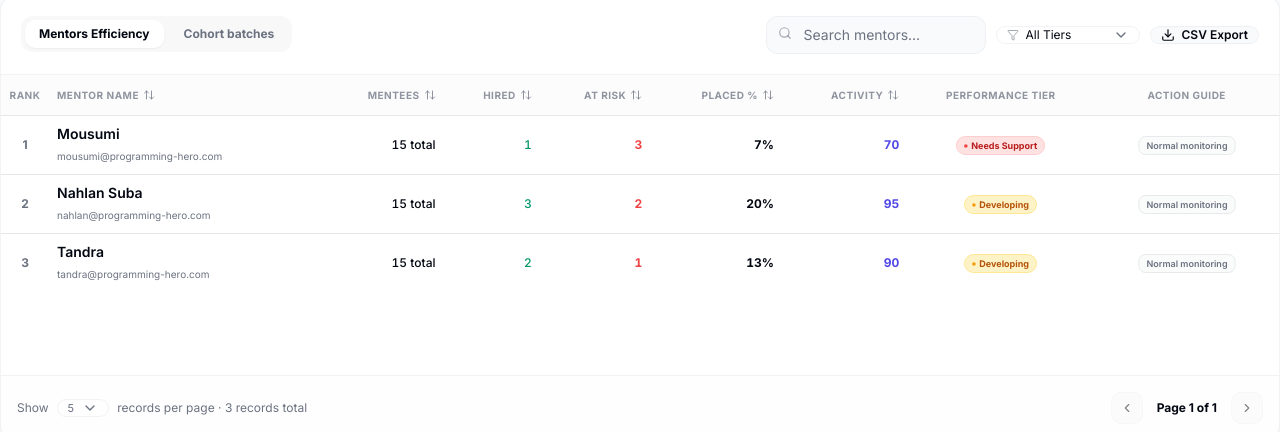
it: DetailedAnalyticsTable › Filters mentors list via Search input
This screenshot has width=1280, height=432.
Note: Type query
In the field with placeholder "Search mentors…": (876, 35) 766,16 -> 986,54, type "Nahlan"
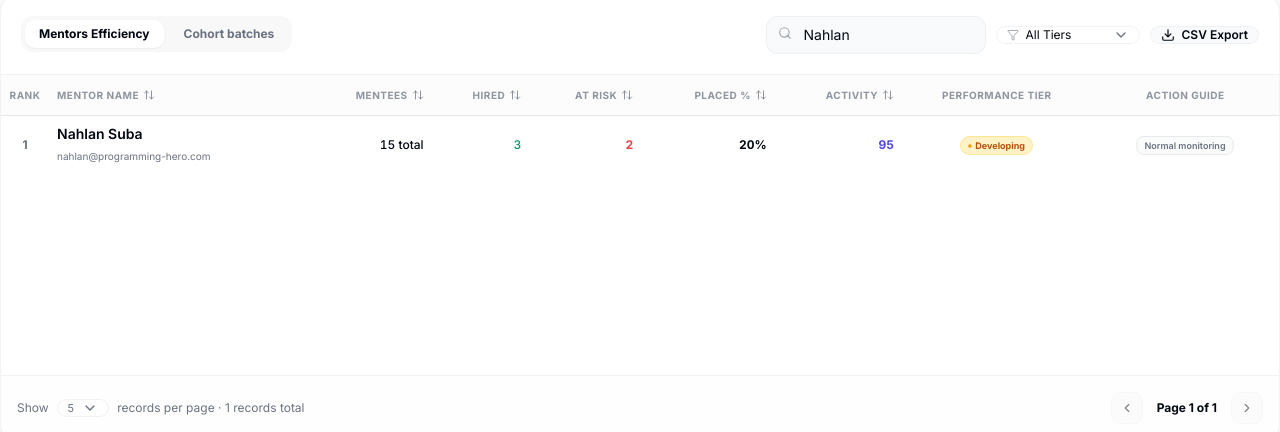
Expected: the text "Nahlan Suba" is shown, 57,124 -> 143,142
Expected: the text "Tandra" is gone
